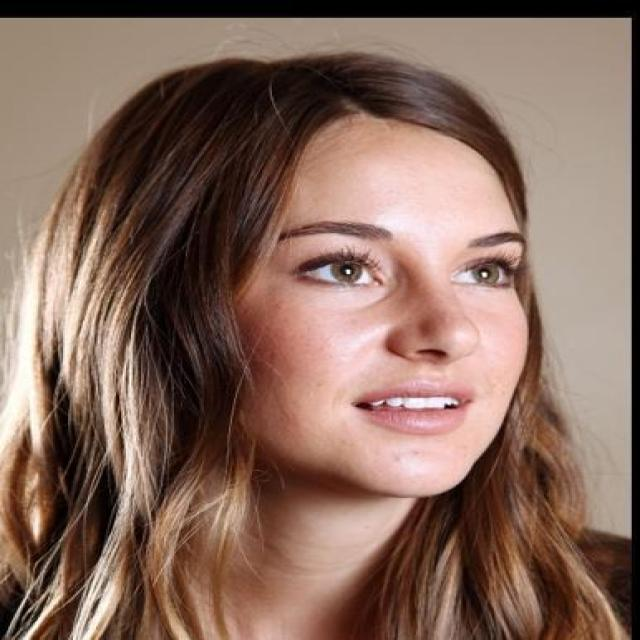0_rostro_limpio: (178, 72, 552, 504)
